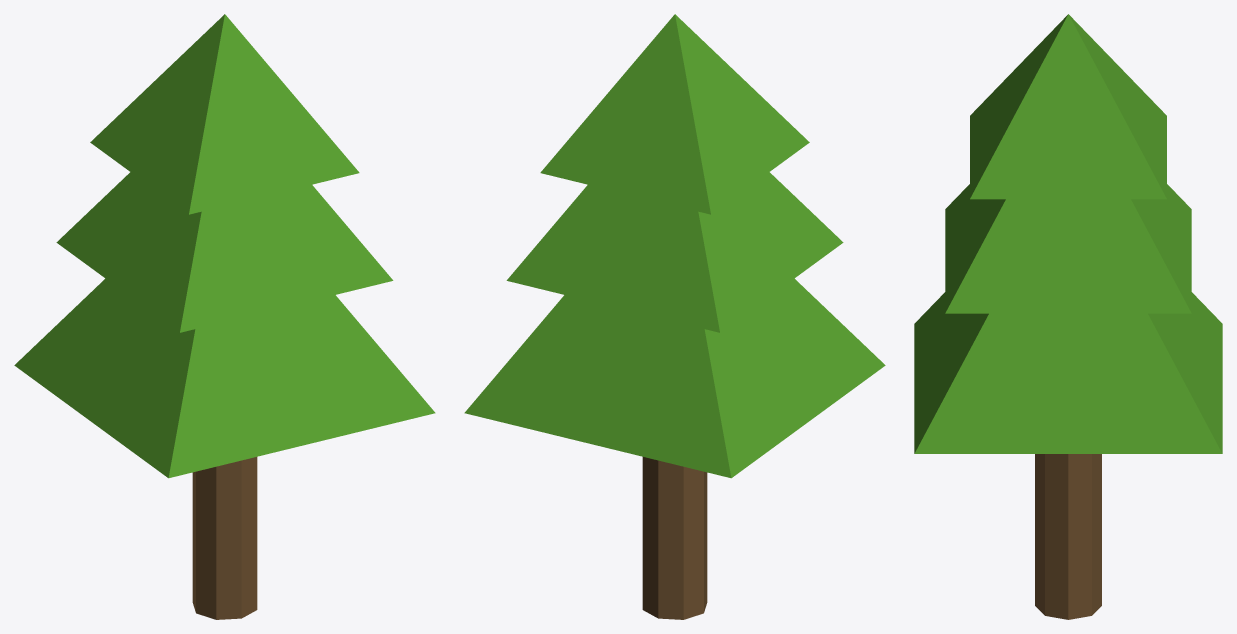
The model's file is Tree.fbx.
The picture shows the model from 3 angles, left to right: view 1: azimuth 30°, elevation 25°; view 2: azimuth 150°, elevation 25°; view 3: azimuth 270°, elevation 25°; orthographic projection.
Visible parts, largest first — view 1: Cube; view 2: Cube; view 3: Cube.
Part boxes in pixels (<box>): Cube: <box>14,14,435,619</box>; Cube: <box>464,14,885,619</box>; Cube: <box>914,14,1222,619</box>.
Bounding box in the file's own units: 1035 × 2192 × 1035.
